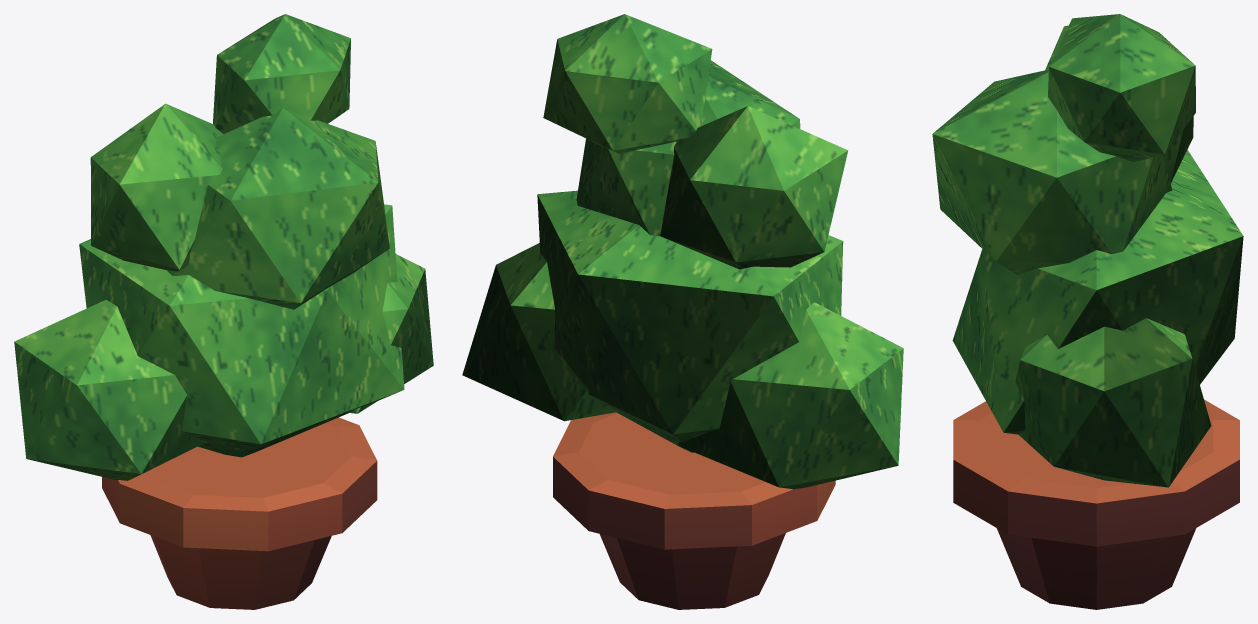
The model's file is plant.glb.
The picture shows the model from 3 angles, left to right: view 1: azimuth 30°, elevation 25°; view 2: azimuth 150°, elevation 25°; view 3: azimuth 270°, elevation 25°; orthographic projection. The views are drawn at different scales.
Visible parts, largest first — view 1: plant; view 2: plant; view 3: plant.
Boxes of the visible parts, <box> form: plant: <box>14,14,433,609</box>; plant: <box>462,14,903,609</box>; plant: <box>932,14,1243,609</box>.
Bounding box in the file's own units: 0.6324 × 0.8264 × 0.3922.
Materials: 5 (5 with a texture image).
